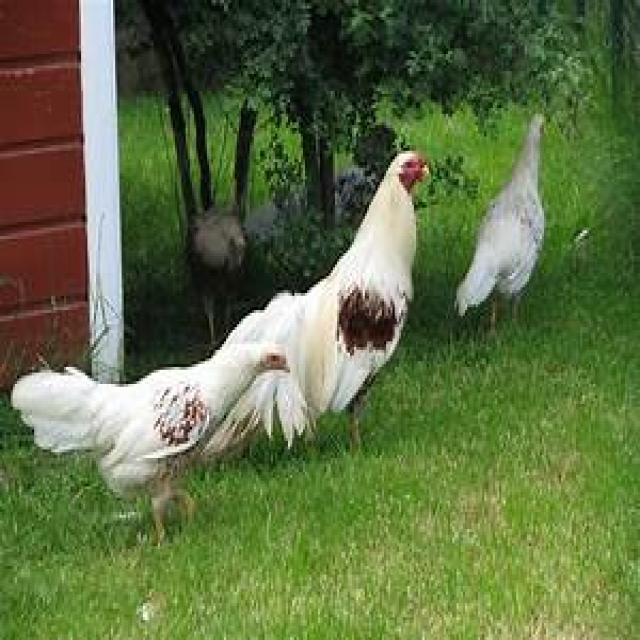chicken: (192, 150, 427, 481), (14, 335, 291, 543), (452, 108, 546, 333)
